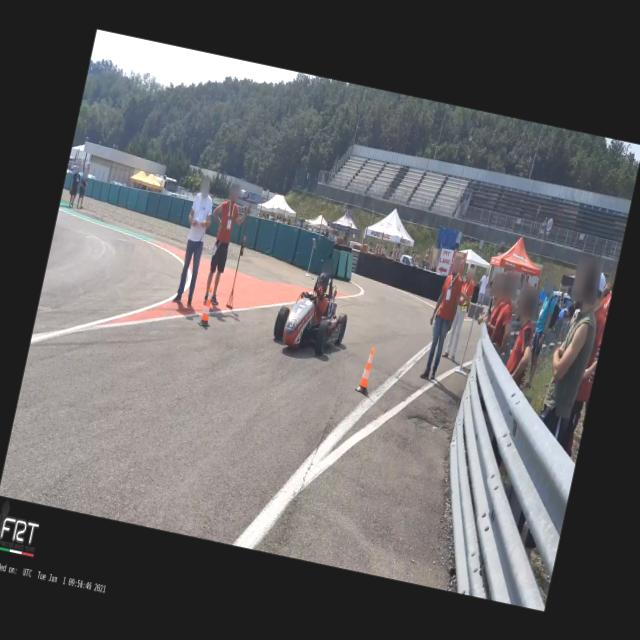large_orange_cone: (354, 345, 377, 395), (196, 286, 218, 326)
